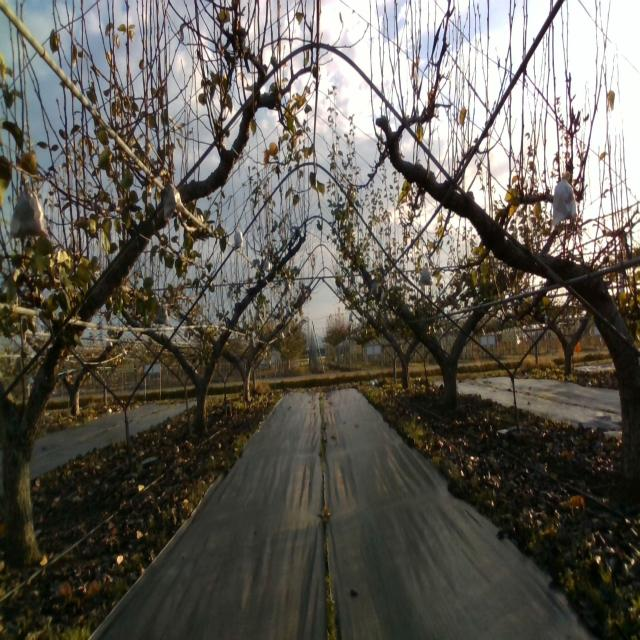pearbags: (10, 177, 48, 239), (552, 174, 579, 226), (164, 182, 185, 222), (418, 262, 432, 286)
